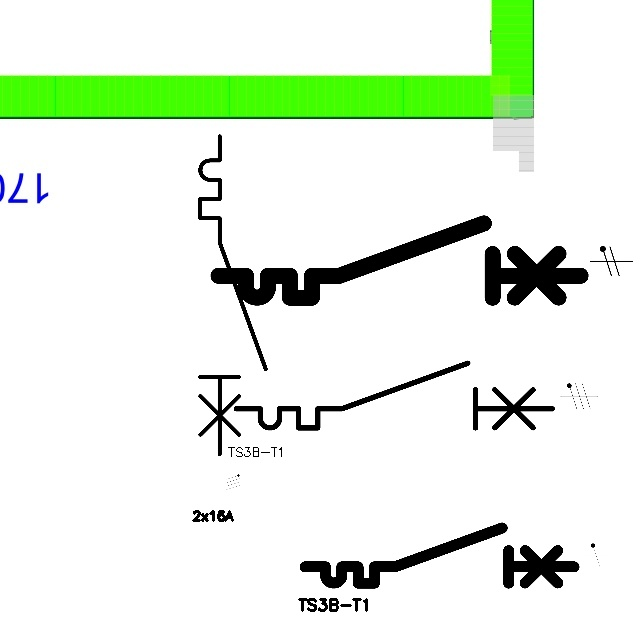interruptor_termomagnetico: (209, 214, 590, 307), (192, 128, 274, 462), (228, 355, 560, 436), (298, 521, 581, 590)
